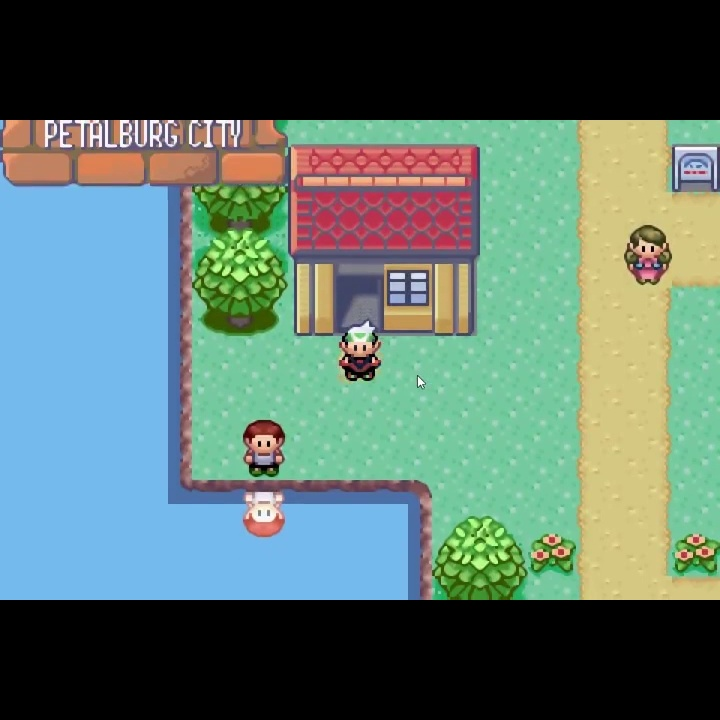house: (287, 142, 483, 340)
npc: (623, 223, 675, 291), (239, 418, 290, 481), (338, 318, 384, 386)
wall: (192, 227, 289, 338), (432, 515, 527, 599), (192, 185, 288, 229)
